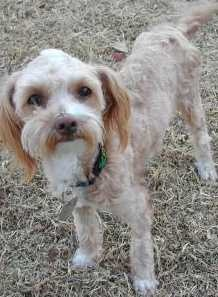dog: (0, 29, 209, 259)
